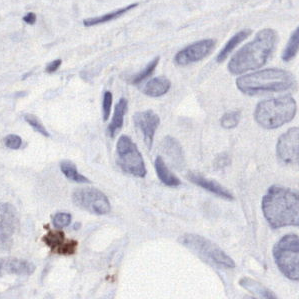Lymphocyte: (41, 223, 81, 256)
